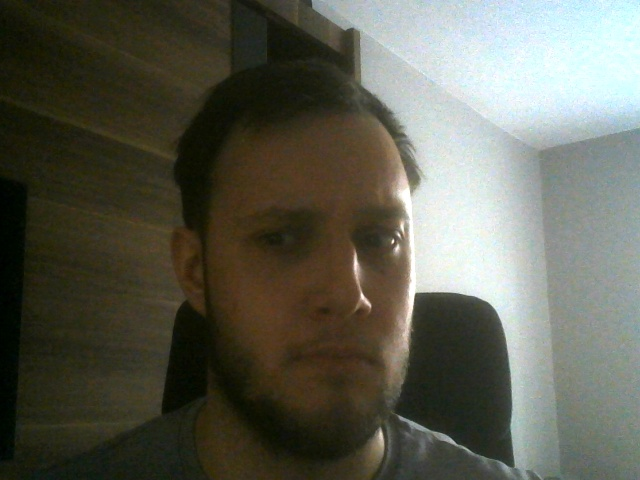angry: (169, 62, 419, 453)
